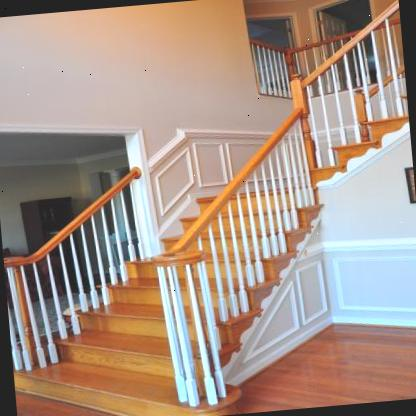stair: (4, 160, 318, 415)
